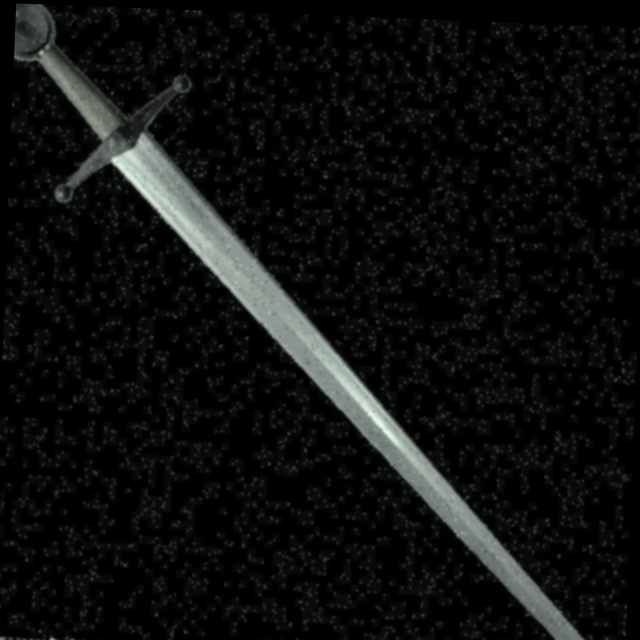Sharp-Object: (17, 44, 640, 640)
